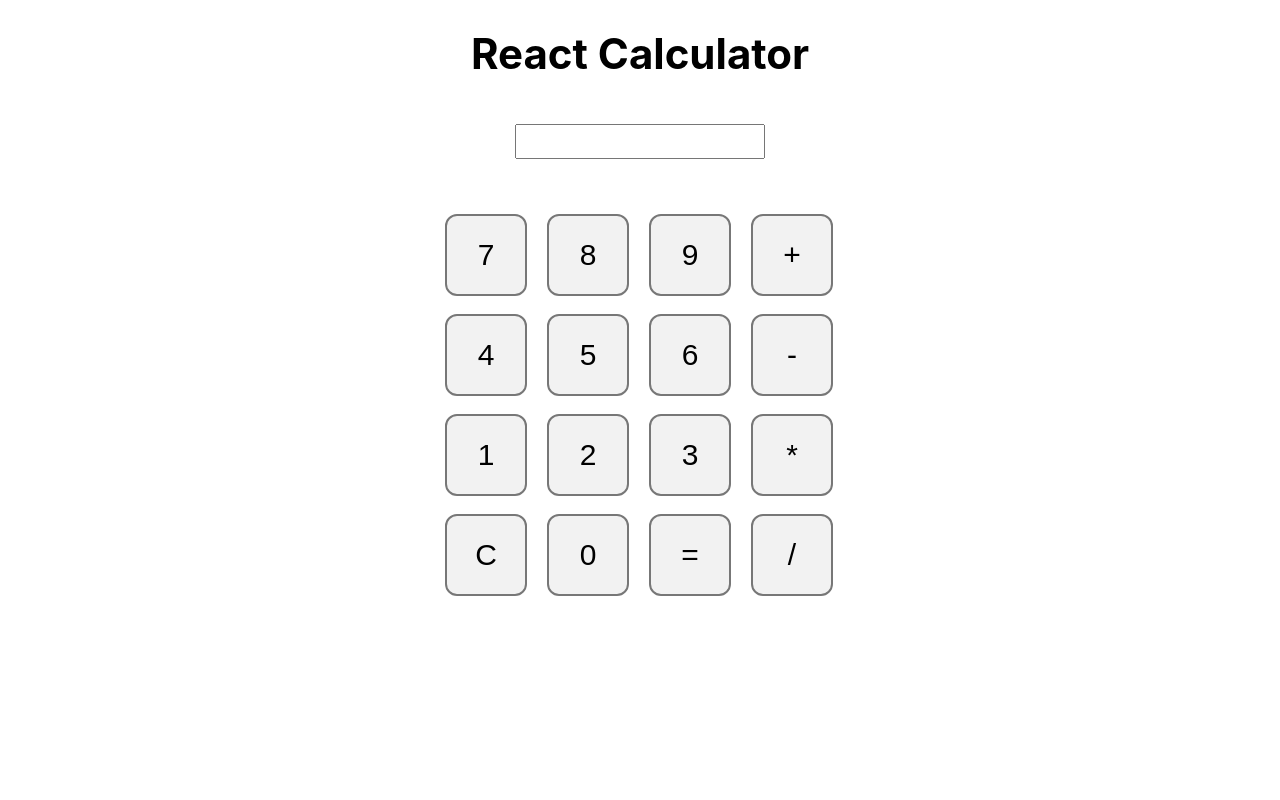
Test: React Calculator Tests › Calculation Accuracy › correctly calculates 2 + 3
Click the button "2" at (588, 455), box [547,414,629,496]
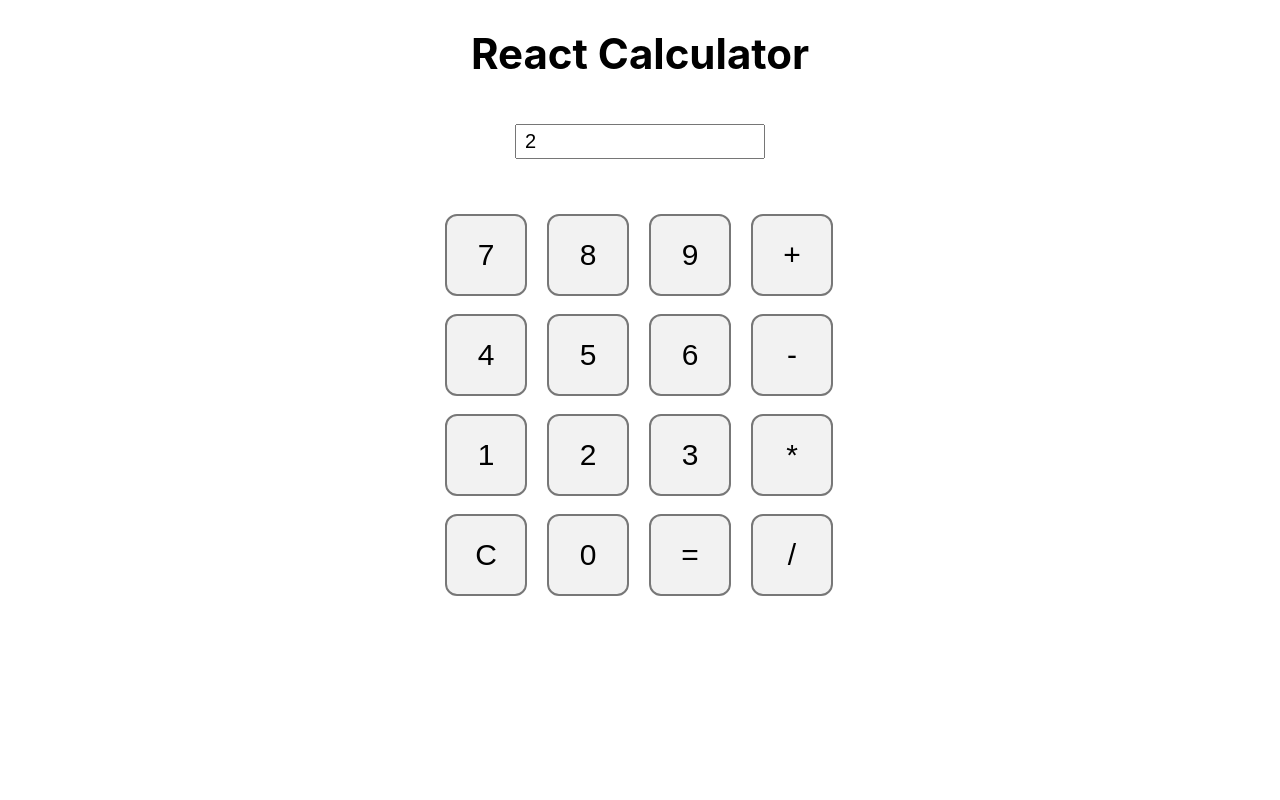
Click the button "+" at (792, 255), box [751,214,833,296]
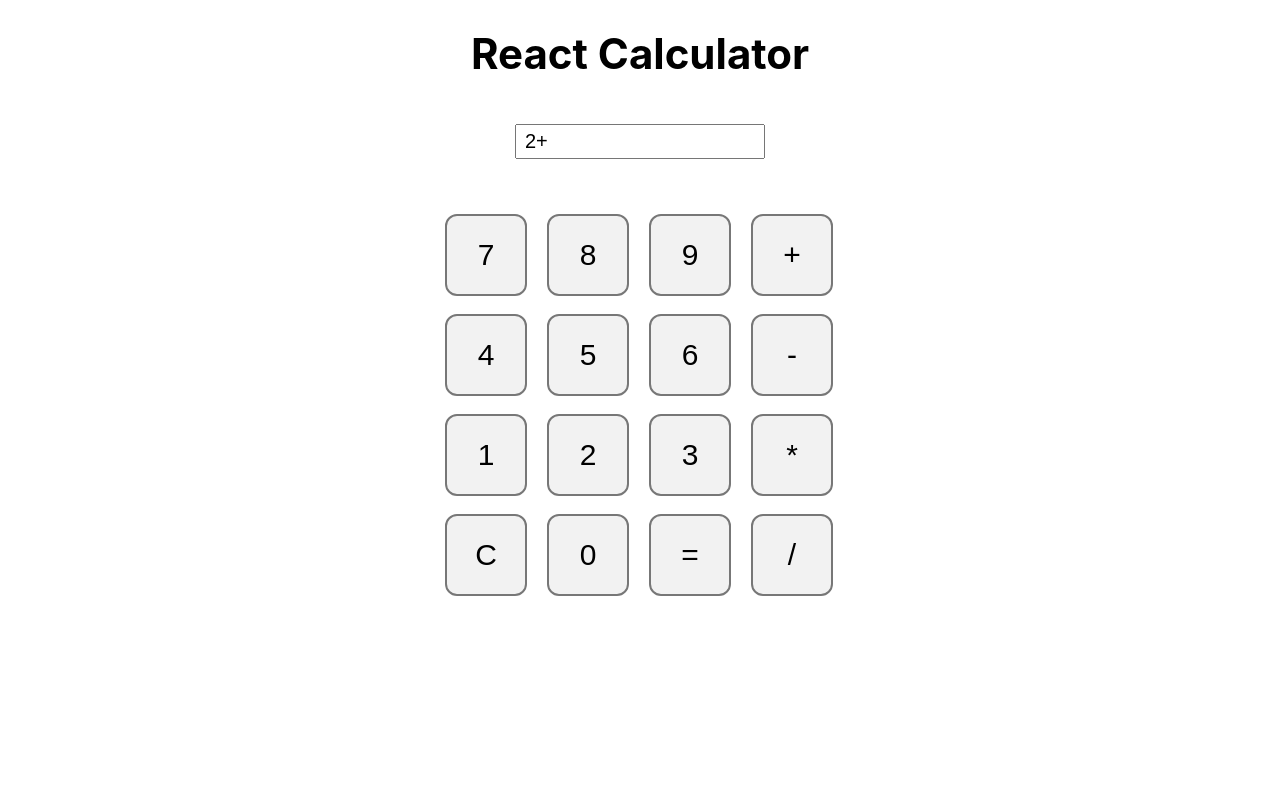
Click the button "3" at (690, 455), box [649,414,731,496]
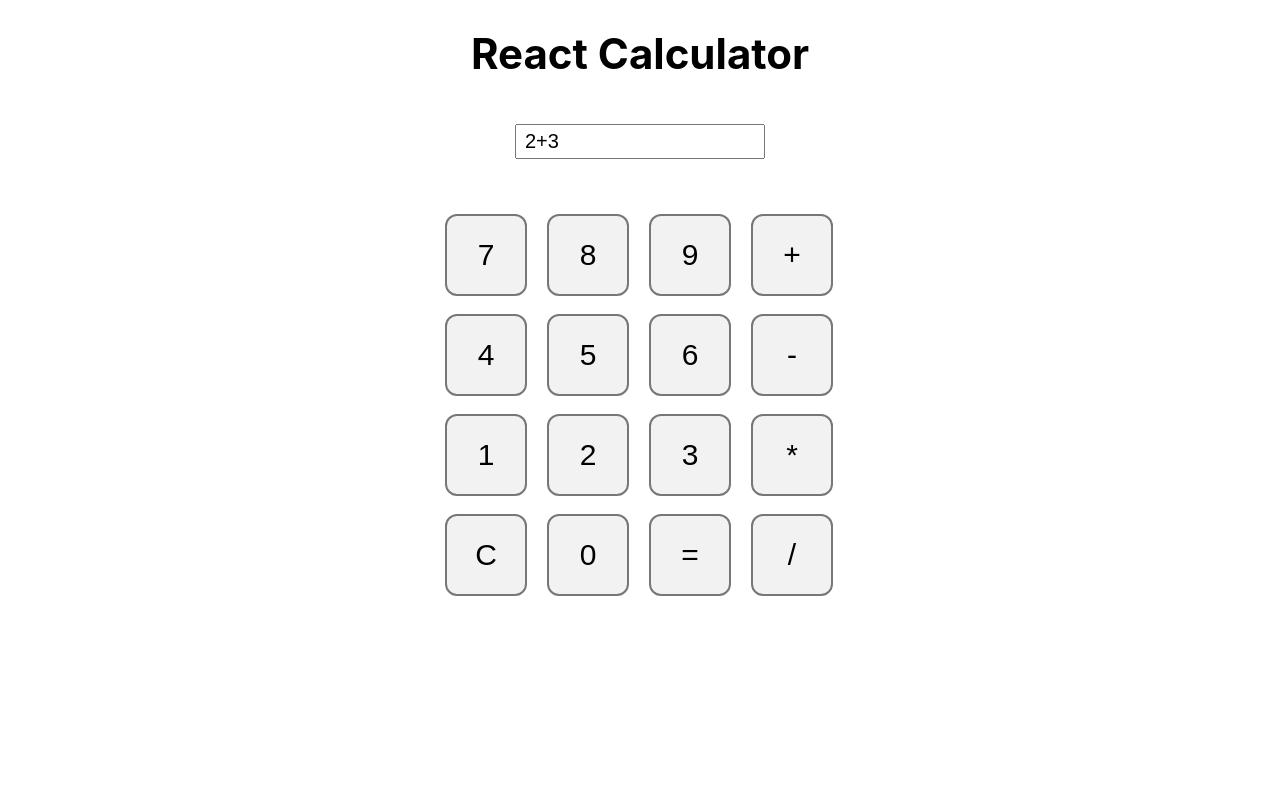
Click the button "=" at (690, 555), box [649,514,731,596]
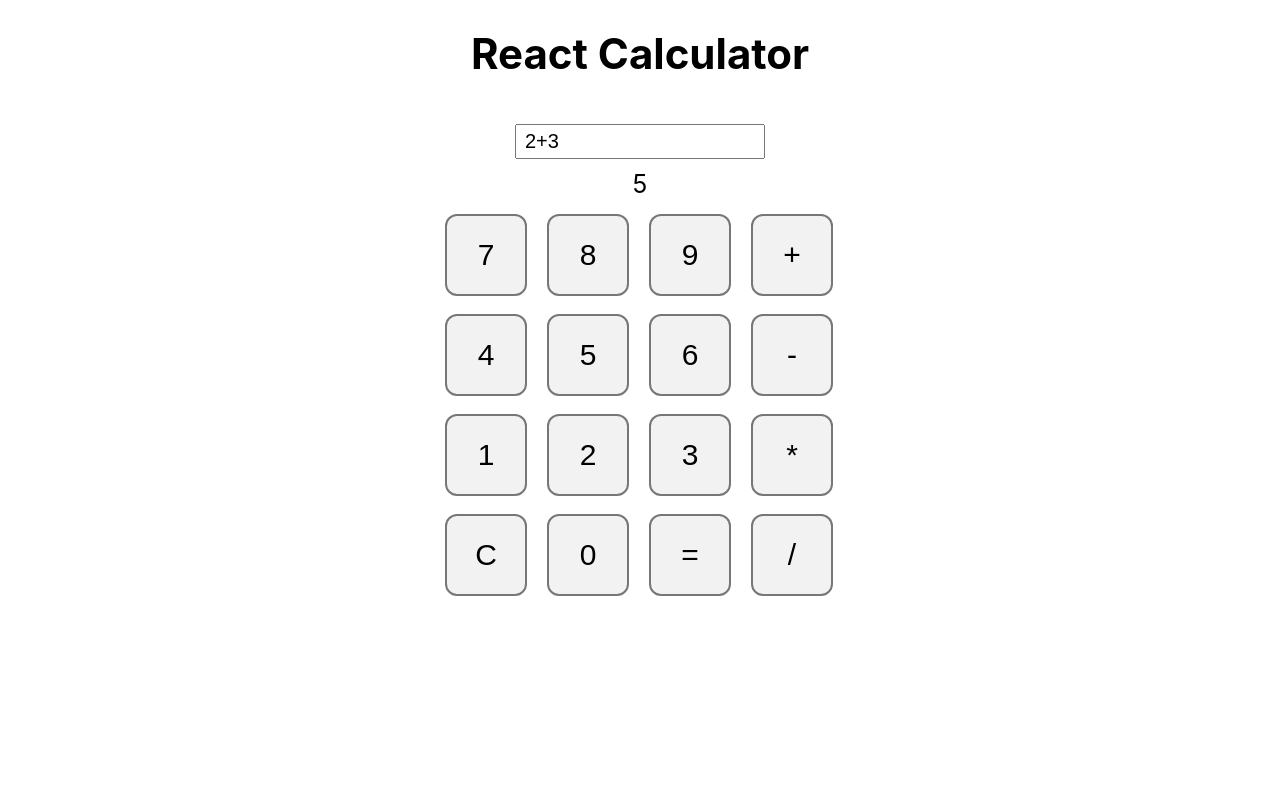
Expected: the text "5" is shown, [633,169,647,199]
